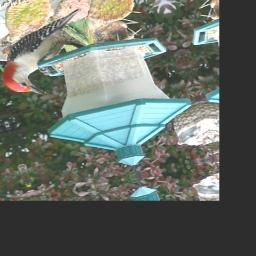Woodpecker: (0, 8, 107, 104)
